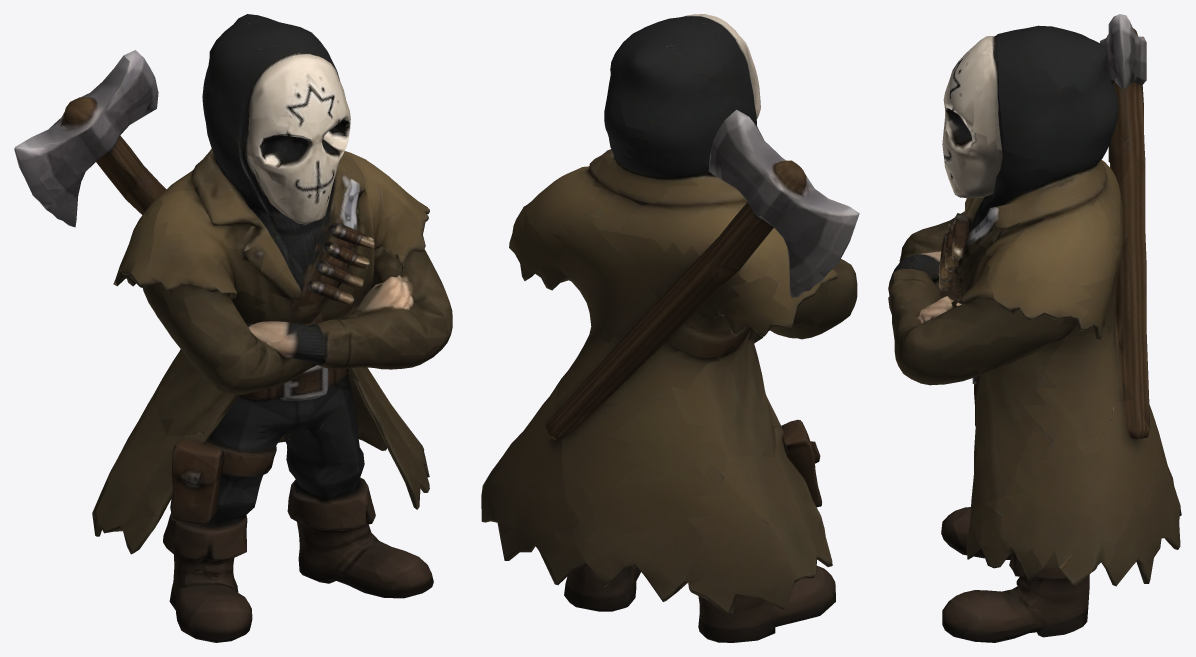
File: chi_tong.glb
3 renders of one model, left to right at view 1: azimuth 30°, elevation 25°; view 2: azimuth 150°, elevation 25°; view 3: azimuth 270°, elevation 25°, orthographic. The views are drawn at different scales.
Visible parts, largest first — view 1: mesh_node; view 2: mesh_node; view 3: mesh_node.
Part boxes in pixels (x1,y1,x2,y2): mesh_node: [14, 14, 452, 642]; mesh_node: [481, 14, 859, 642]; mesh_node: [888, 14, 1181, 642].
Bounding box in the file's own units: 1.36 × 1.91 × 0.9119.
Materials: 1 (1 with a texture image).
